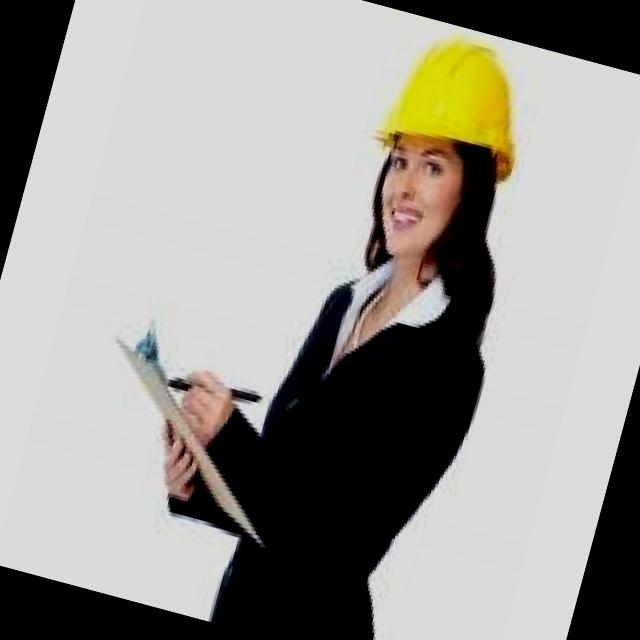helmet: (365, 24, 540, 179)
no-vest: (200, 233, 501, 640)
